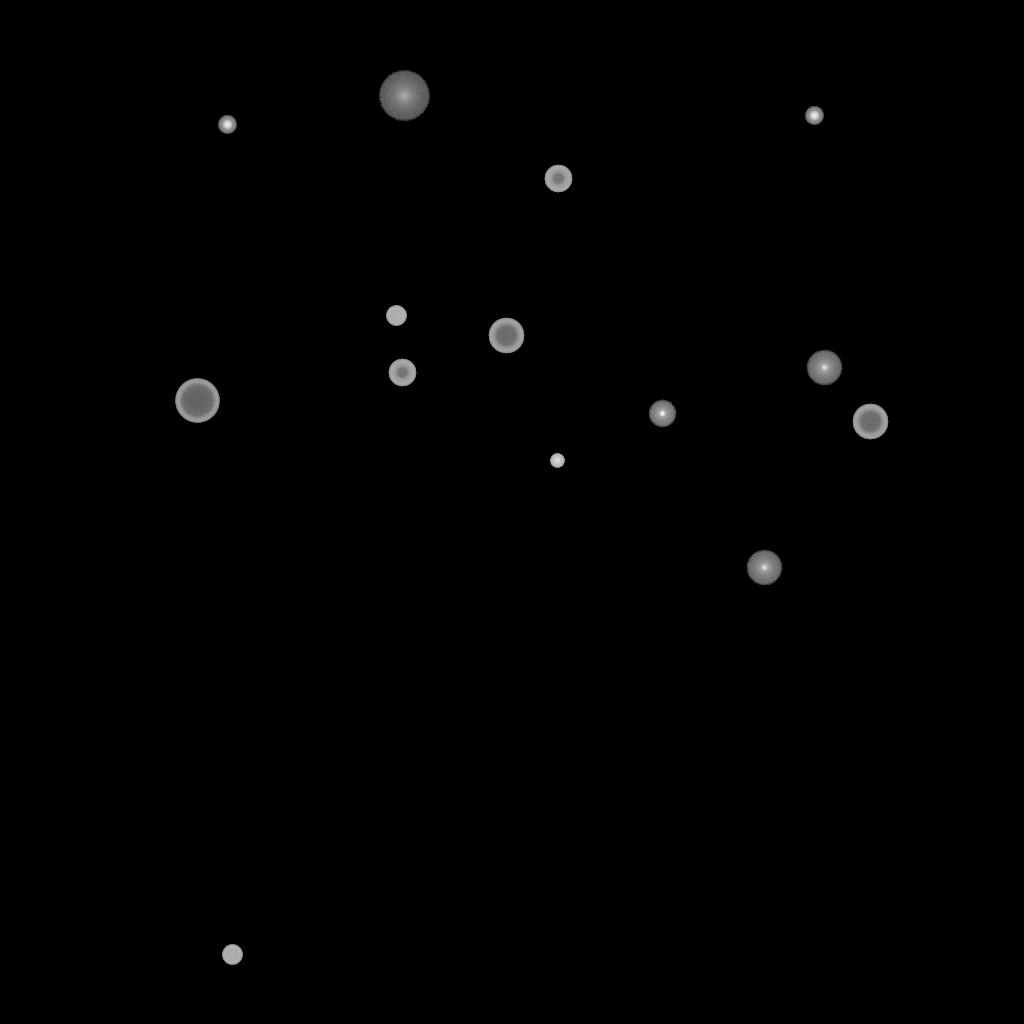depth:-10: (648, 400, 676, 428)
depth:-20: (805, 107, 823, 125), (218, 116, 236, 134)
depth:-30: (550, 454, 564, 468)
depth:-40: (222, 945, 242, 965), (386, 306, 406, 326)
depth:-50: (544, 165, 572, 193), (388, 359, 416, 387)
depth:-60: (852, 404, 888, 440), (488, 318, 524, 354)
depth:-70: (175, 379, 219, 423)
depth:0: (746, 550, 782, 586), (806, 350, 842, 386)
depth:20: (378, 71, 430, 121)
